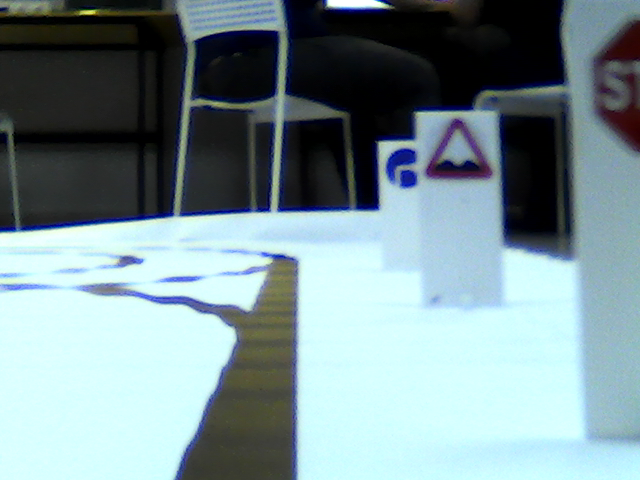Nerov: (422, 117, 493, 180)
Right: (386, 147, 417, 185)
